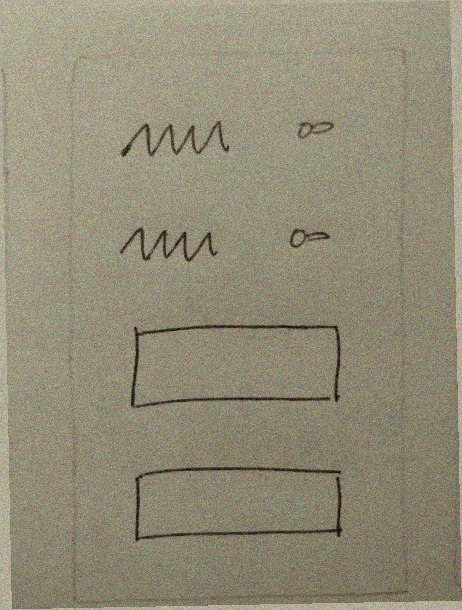switch: (272, 217, 357, 257), (286, 109, 352, 149)
text: (106, 108, 244, 169), (112, 214, 229, 275)
text_input: (120, 308, 356, 420), (119, 458, 357, 555)
